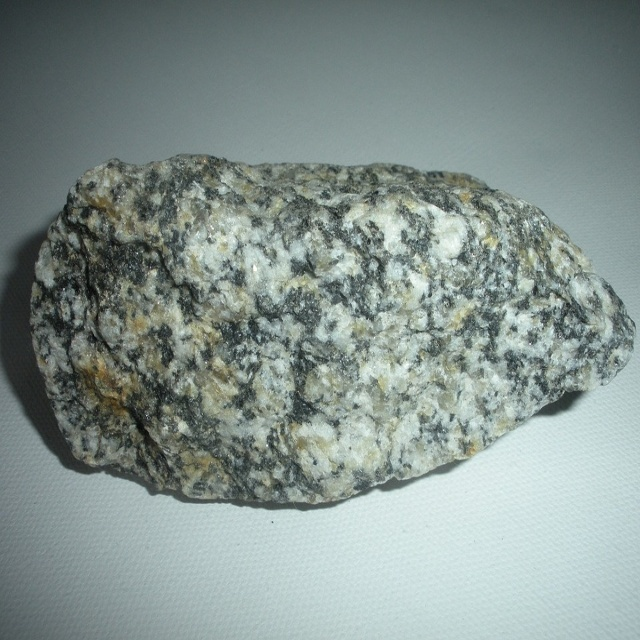obstacle: (31, 156, 634, 503)
